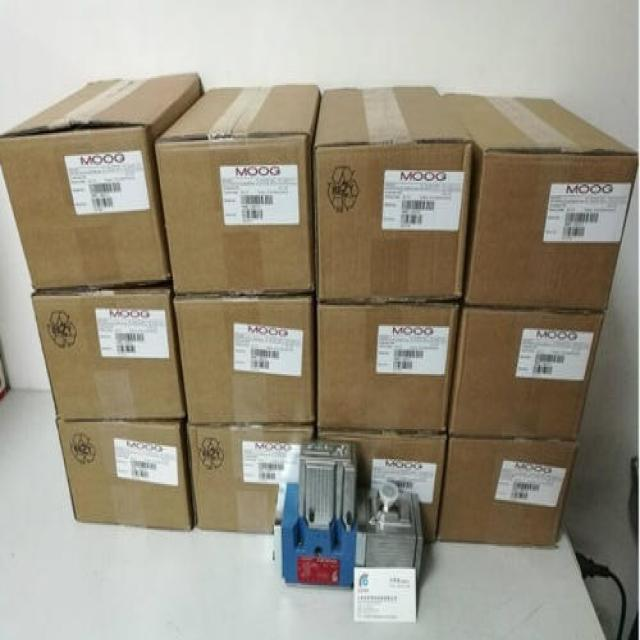box: (0, 73, 205, 291), (442, 96, 639, 312), (154, 87, 323, 296), (314, 85, 474, 305), (447, 303, 607, 441), (31, 282, 187, 422), (315, 300, 461, 434), (173, 294, 316, 425), (435, 436, 579, 548), (55, 420, 196, 532), (317, 431, 447, 541), (186, 425, 314, 535)
